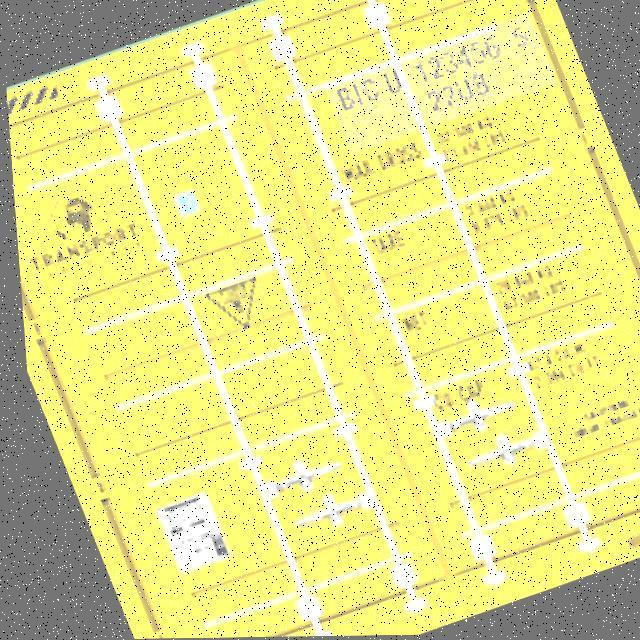container_number_h: (319, 14, 560, 155)
